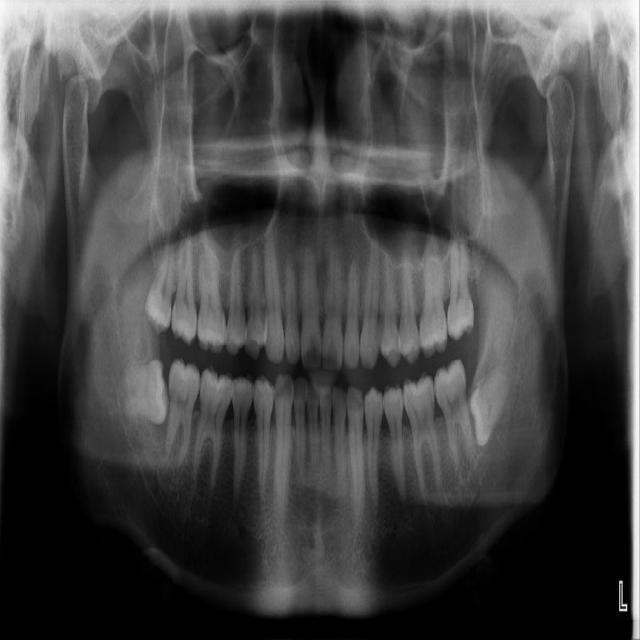Filling: (204, 372, 232, 393), (406, 381, 429, 398), (175, 320, 194, 340), (175, 362, 195, 380), (202, 330, 224, 345), (436, 365, 457, 379)
impacted tooth: (470, 359, 510, 447), (143, 236, 175, 335), (118, 360, 167, 423)
